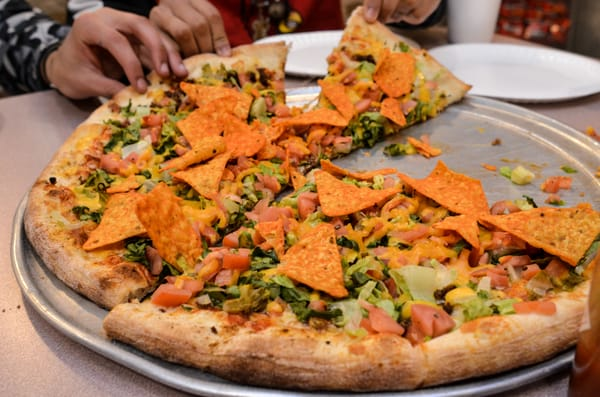curry: (1, 33, 502, 389)
sandwich: (18, 48, 592, 390)
